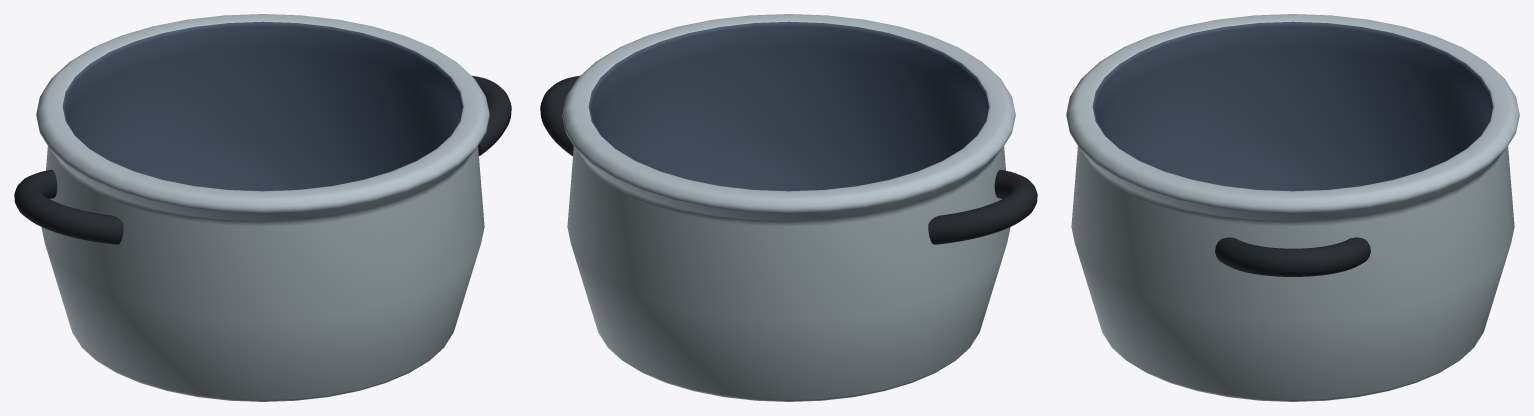
File: pot_A.gltf
3 renders of one model, left to right at view 1: azimuth 30°, elevation 25°; view 2: azimuth 150°, elevation 25°; view 3: azimuth 270°, elevation 25°, orthographic.
Visible parts, largest first — view 1: PotBody; view 2: PotBody; view 3: PotBody.
Part boxes in pixels (<box>): PotBody: <box>14,14,511,401</box>; PotBody: <box>540,14,1037,401</box>; PotBody: <box>1066,14,1519,401</box>.
Bounding box in the file's own units: 0.7743 × 0.34 × 0.6354.
